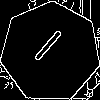I: (25, 27, 65, 71)
